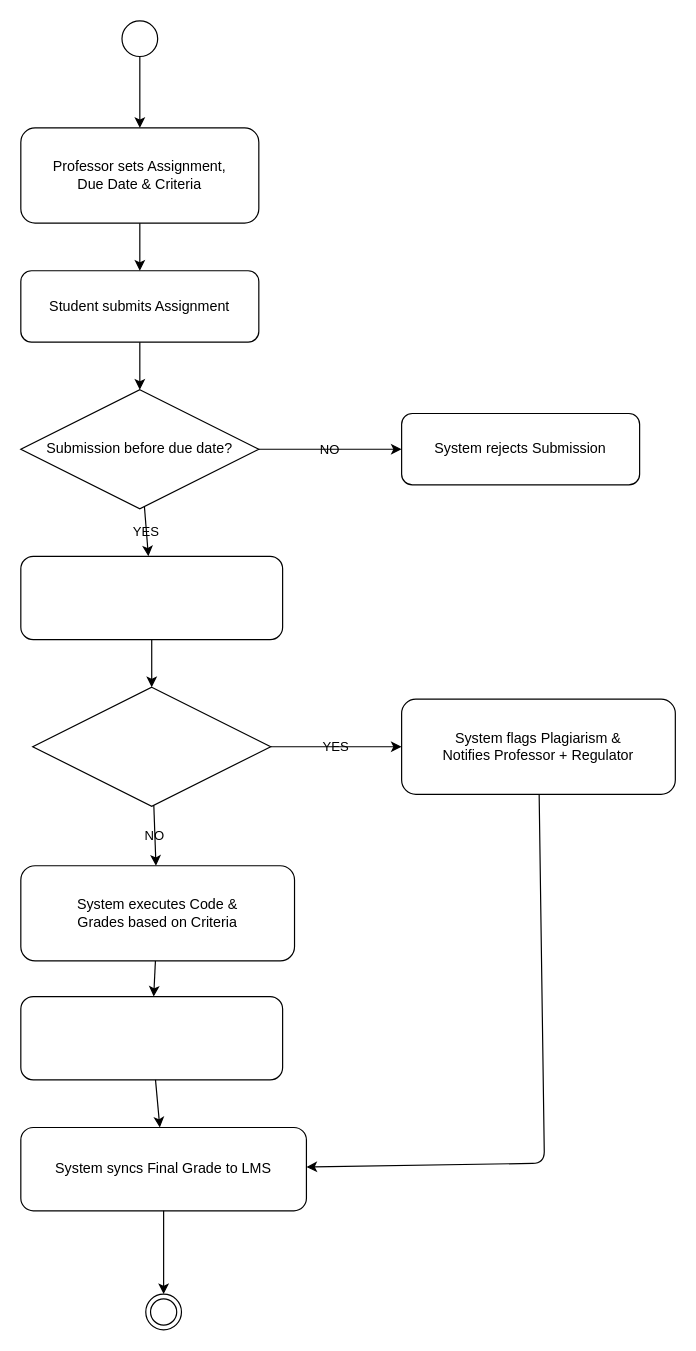
The diagram is 696 pixels wide and 1351 high, and some of its shapes have lost their labels. Each missing label, with the box of its shape:
Is it Plagiarism?: (32, 686, 271, 806)
Professor reviews Grade & Feedback: (20, 995, 283, 1080)
System checks Plagiarism (Turnitin): (20, 555, 283, 640)
